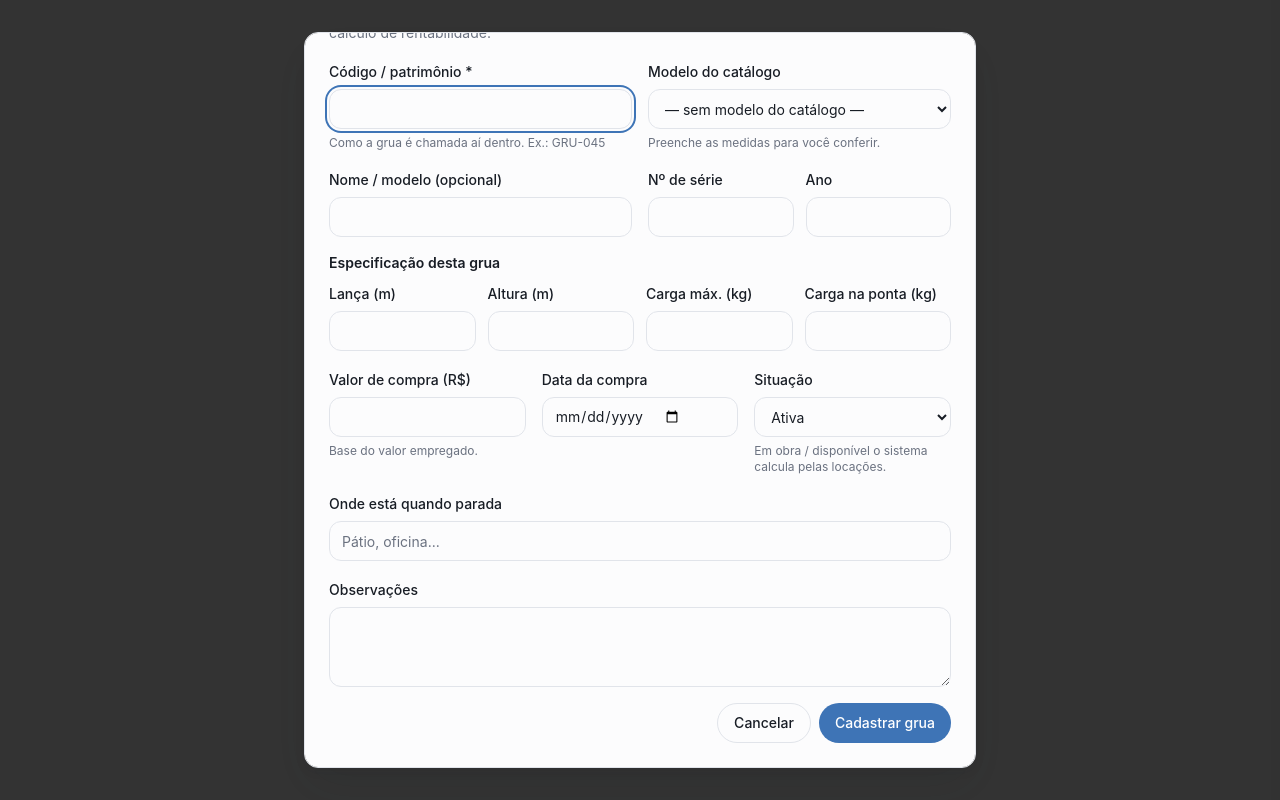
cadastrar grua › código é obrigatório
(page scrolled)
Click the button "Cadastrar grua" at (885, 723), box [819,703,951,743]
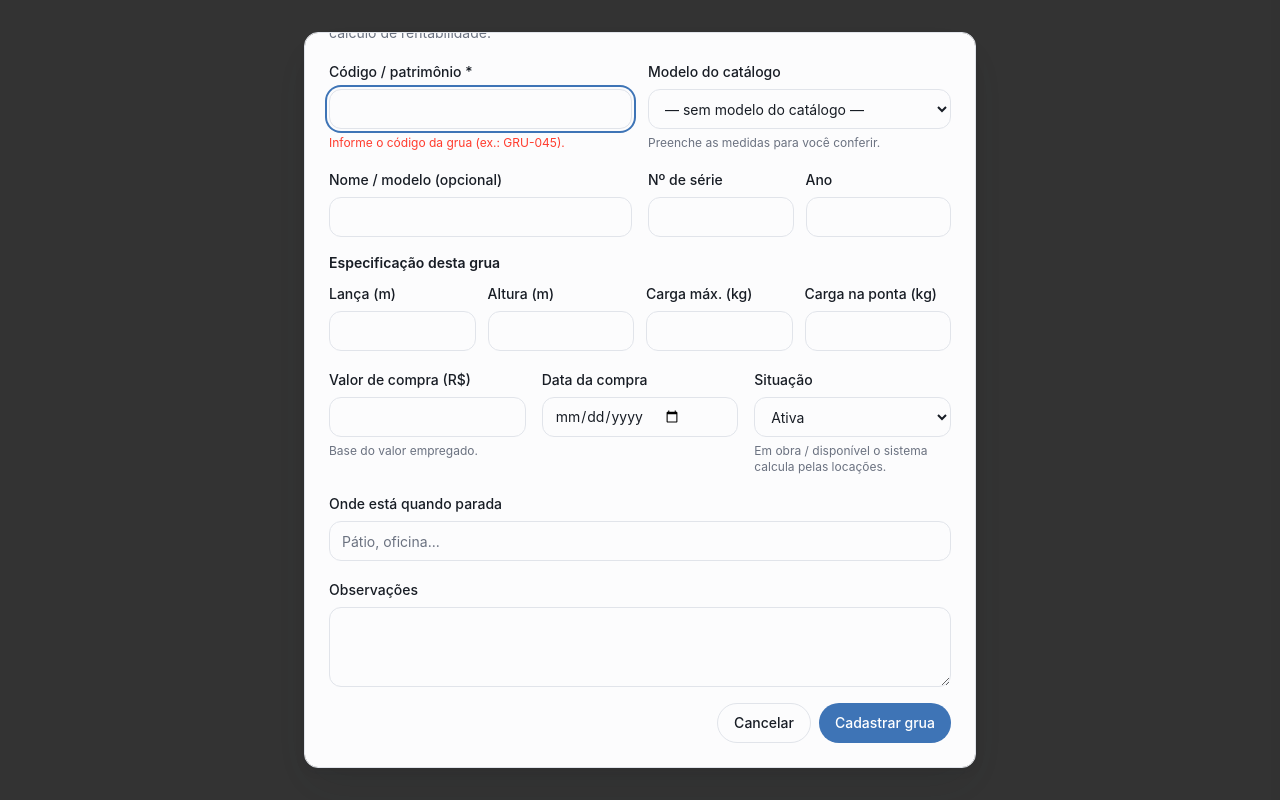
Check: the text "Informe o código da grua (ex.: GRU-045)." is shown, box [329,135,565,150]
